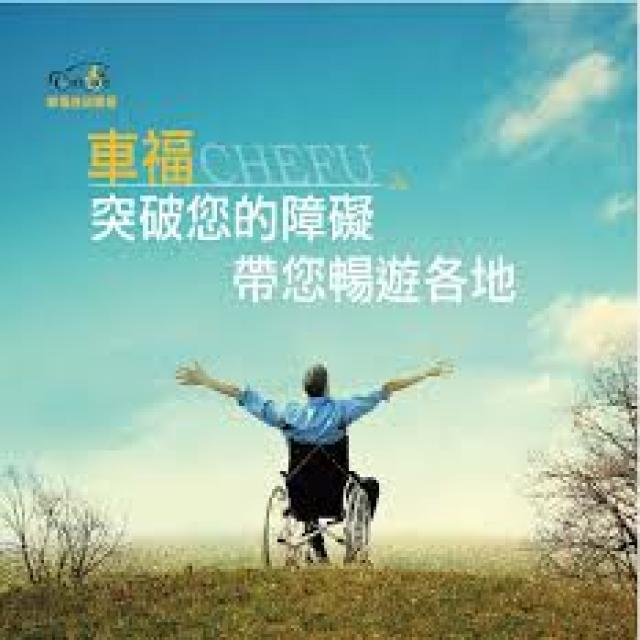wheelchairs: (250, 421, 387, 560)
